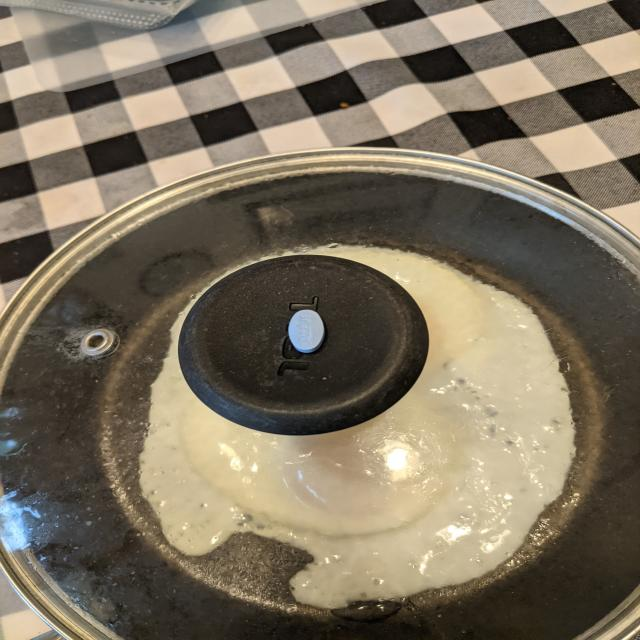non-organic waste: (286, 308, 326, 354)
